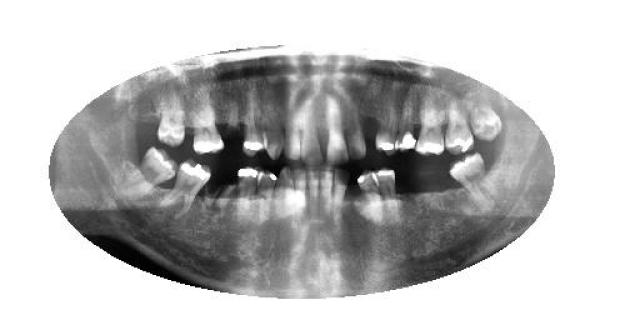Fillings: (161, 158, 211, 216), (417, 99, 448, 159), (193, 94, 225, 152), (444, 102, 475, 158), (395, 98, 419, 154), (244, 98, 266, 158), (377, 98, 398, 156), (376, 169, 400, 219), (235, 168, 260, 214)
Restorations: (120, 145, 178, 199)
